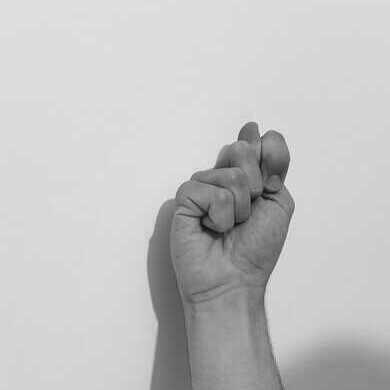T: (168, 122, 296, 303)
